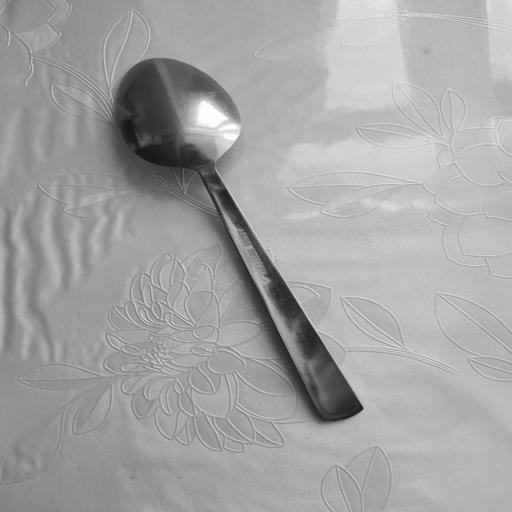spoon: (114, 54, 367, 424)
